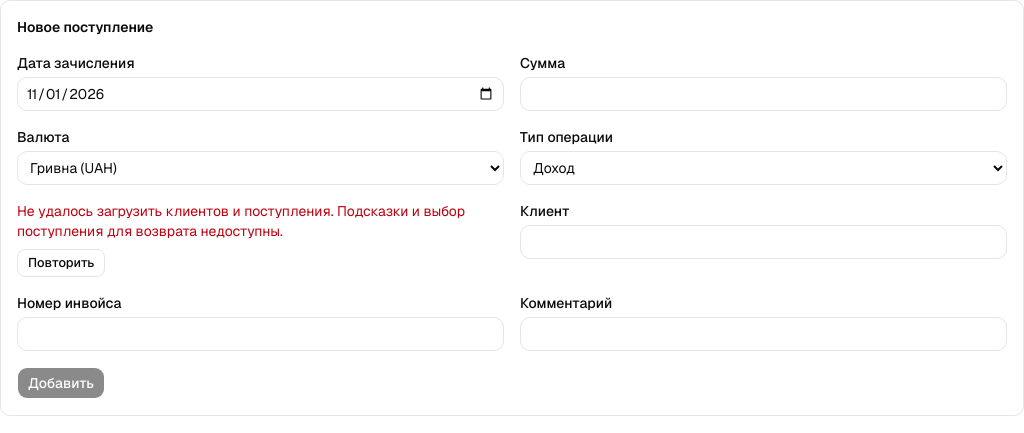
TransactionForm side lists in ru › says the clients and receipts could not load, and loads them again on retry
The image size is (1024, 433).
Expected: the message shows "Не удалось загрузить клиентов и поступления", [17,202,465,240]
Step 1. Click the button "Повторить" → x=61, y=263, box [17,249,105,277]
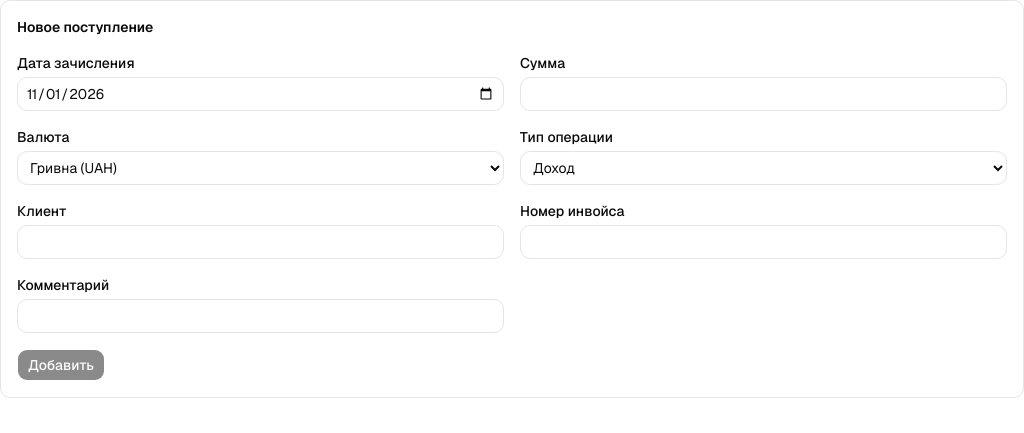
Now the message is gone
